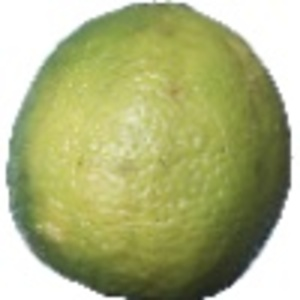limão: (3, 1, 292, 300)
